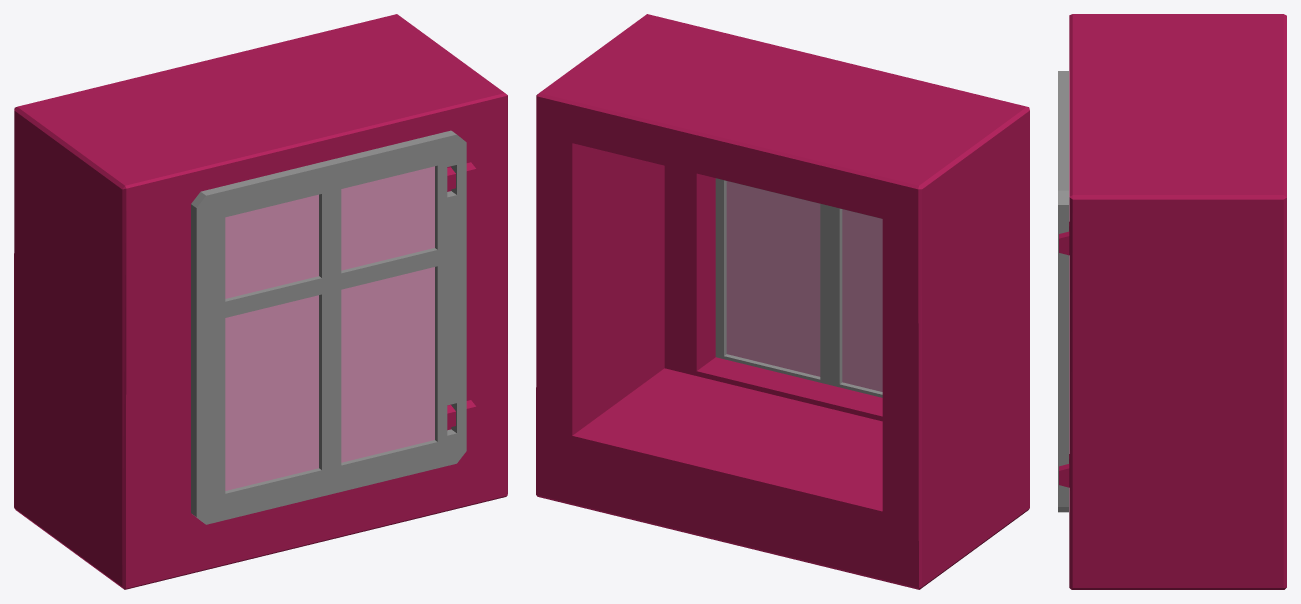
File: Part_House_Window_2X4_simple.FBX
The picture shows the model from 3 angles, left to right: view 1: azimuth 30°, elevation 25°; view 2: azimuth 150°, elevation 25°; view 3: azimuth 270°, elevation 25°; orthographic projection. The views are drawn at different scales.
Visible parts, largest first — view 1: Part_House_Window_2X4_simple, Part_House_Window_glass, Part_House_Window; view 2: Part_House_Window_2X4_simple, Part_House_Window_glass, Part_House_Window; view 3: Part_House_Window_2X4_simple, Part_House_Window.
Part boxes in pixels (x1,y1,x2,y2): Part_House_Window_2X4_simple: (14, 14, 507, 589); Part_House_Window_glass: (225, 166, 434, 490); Part_House_Window: (191, 130, 466, 524); Part_House_Window_2X4_simple: (536, 14, 1029, 589); Part_House_Window_glass: (726, 181, 882, 391); Part_House_Window: (715, 178, 882, 397); Part_House_Window_2X4_simple: (1059, 14, 1286, 589); Part_House_Window: (1058, 71, 1068, 512).
Size of the model in its own units: 400 by 400 by 210.
